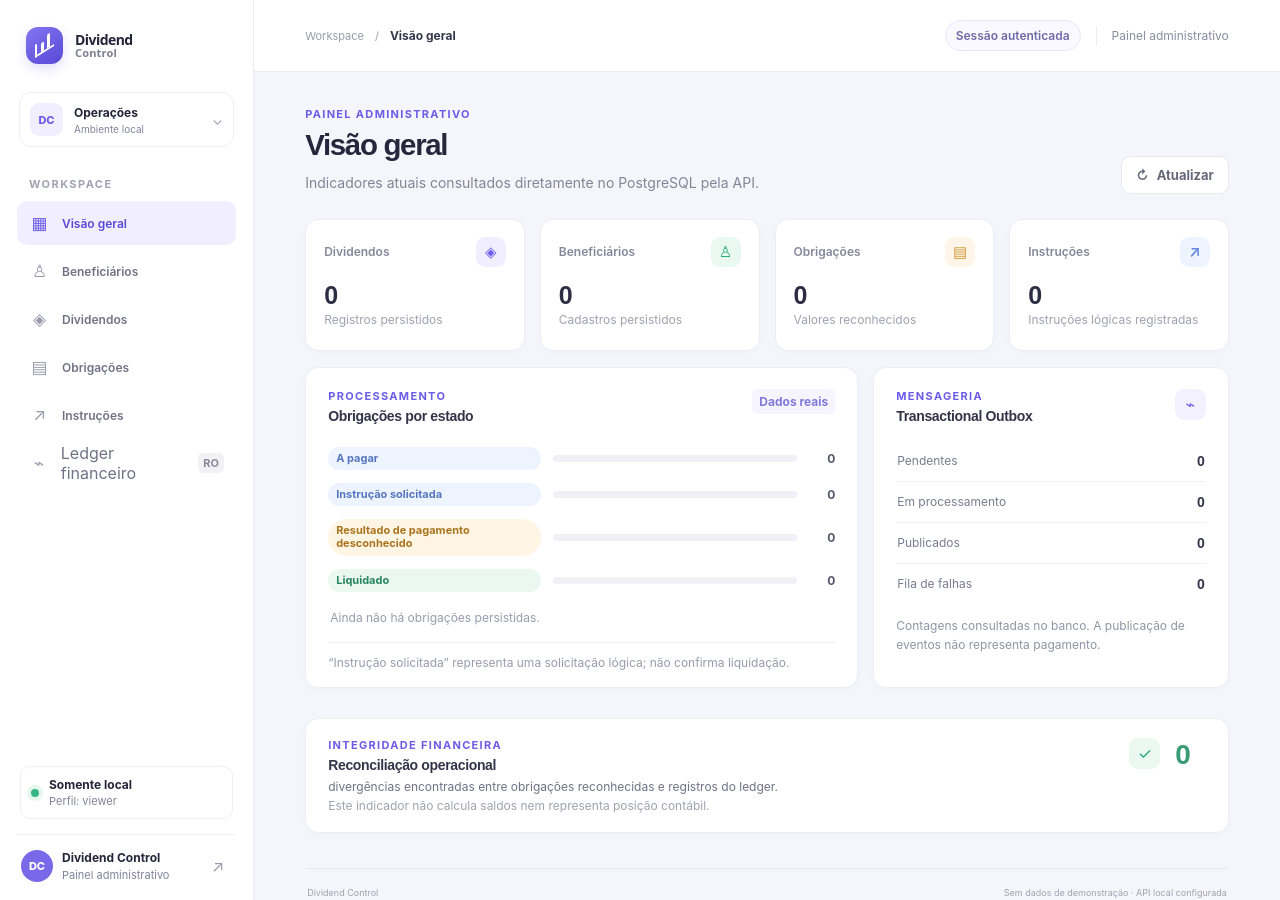
interactive React panel in jsdom (controlled API responses) › uses authenticated API permissions to hide administrative actions in the interface
Check: the text "Sessão autenticada" is shown, box [945,20,1081,51]
Click the button "◈ Dividendos" at (126, 319), box [17,297,236,341]
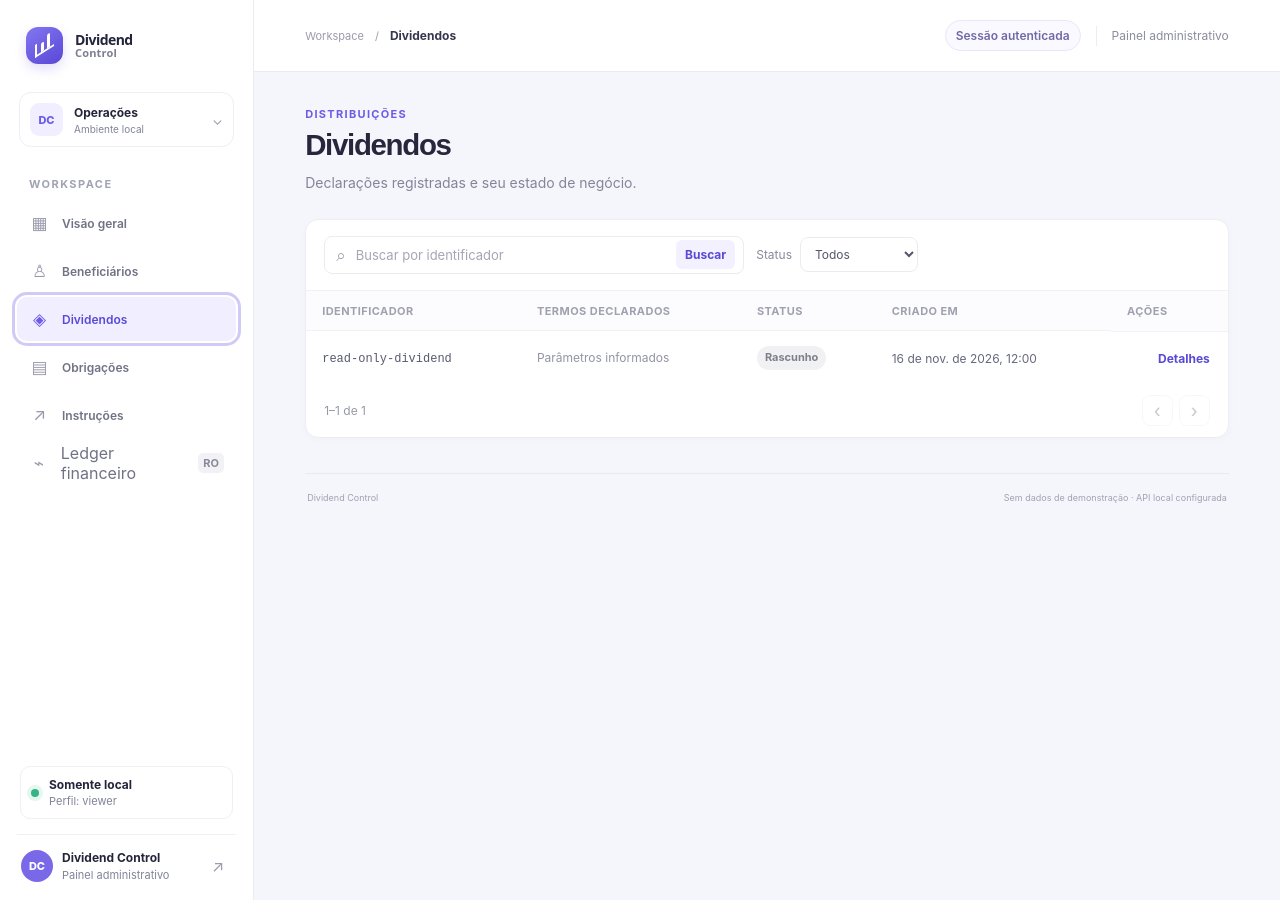
Check: the text "read-only-dividend" is shown, box [322,352,452,366]
